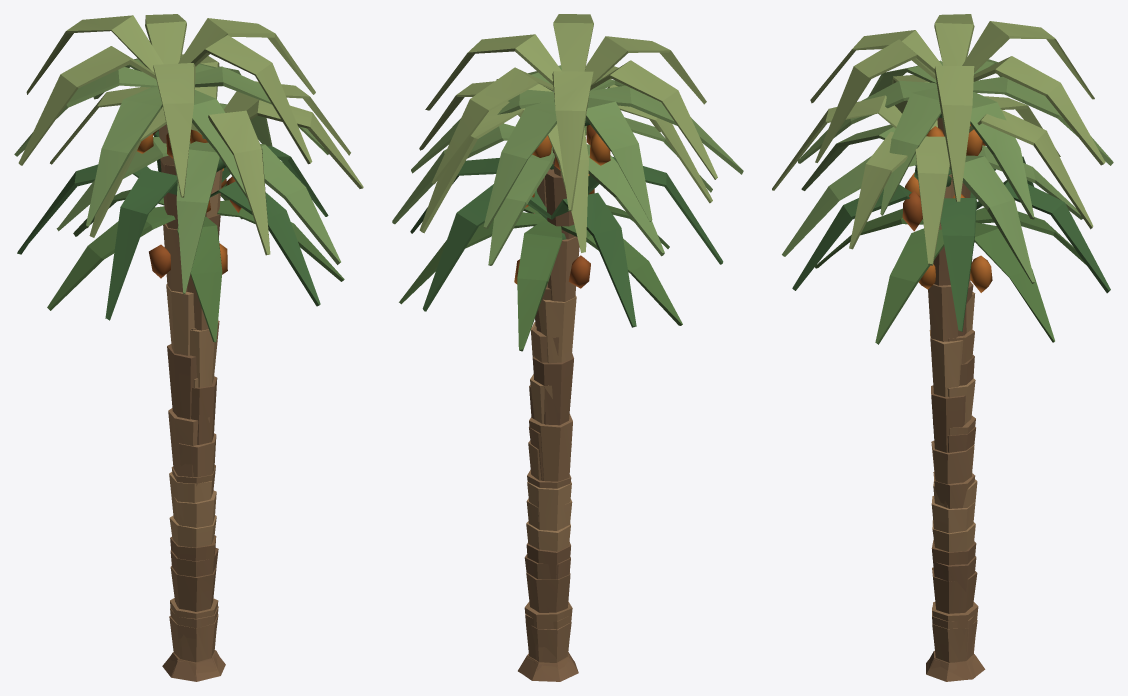
The model's file is tree.date_palm.glb.
The picture shows the model from 3 angles, left to right: view 1: azimuth 30°, elevation 25°; view 2: azimuth 150°, elevation 25°; view 3: azimuth 270°, elevation 25°; orthographic projection. The views are drawn at different scales.
Parts seen in each view (by area): view 1: tree.date_palm.v2.canopy, tree.date_palm.v0.canopy, tree.date_palm.v1.canopy, tree.date_palm.v2.trunk, tree.date_palm.v0.trunk, tree.date_palm.v1.trunk; view 2: tree.date_palm.v2.canopy, tree.date_palm.v1.canopy, tree.date_palm.v2.trunk, tree.date_palm.v0.canopy, tree.date_palm.v1.trunk, tree.date_palm.v0.trunk; view 3: tree.date_palm.v2.canopy, tree.date_palm.v0.canopy, tree.date_palm.v1.canopy, tree.date_palm.v0.trunk, tree.date_palm.v1.trunk, tree.date_palm.v2.trunk.
Boxes of the visible parts, x1,y1,x2,y2 form: tree.date_palm.v2.canopy: [14, 14, 328, 227]; tree.date_palm.v0.canopy: [50, 54, 363, 293]; tree.date_palm.v1.canopy: [17, 131, 344, 342]; tree.date_palm.v2.trunk: [159, 124, 218, 677]; tree.date_palm.v0.trunk: [169, 169, 222, 676]; tree.date_palm.v1.trunk: [169, 328, 225, 681]; tree.date_palm.v2.canopy: [411, 14, 743, 229]; tree.date_palm.v1.canopy: [399, 157, 723, 351]; tree.date_palm.v2.trunk: [518, 148, 579, 681]; tree.date_palm.v0.canopy: [392, 66, 712, 265]; tree.date_palm.v1.trunk: [518, 283, 578, 673]; tree.date_palm.v0.trunk: [524, 161, 572, 671]; tree.date_palm.v2.canopy: [798, 14, 1113, 219]; tree.date_palm.v0.canopy: [772, 75, 1093, 283]; tree.date_palm.v1.canopy: [792, 156, 1110, 344]; tree.date_palm.v0.trunk: [928, 174, 976, 672]; tree.date_palm.v1.trunk: [926, 281, 977, 681]; tree.date_palm.v2.trunk: [930, 117, 985, 679].
Size of the model in its own units: 2.3 by 4.47 by 2.23.
